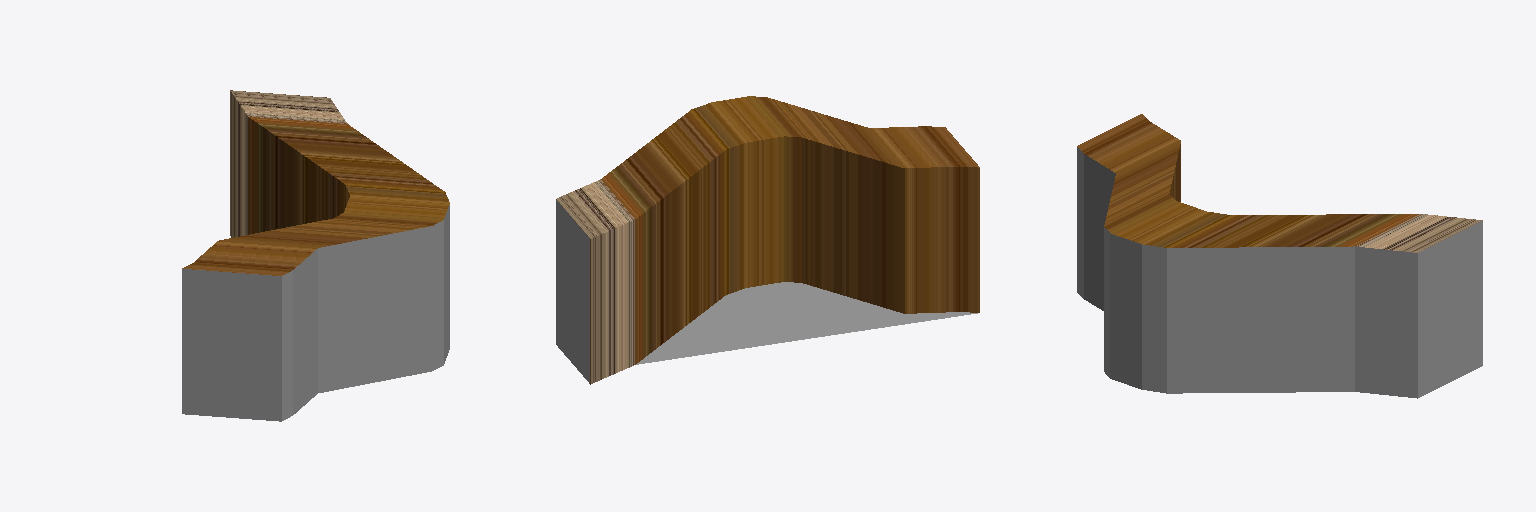
3 views of the same model, side by side, from view 1: azimuth 30°, elevation 25°; view 2: azimuth 150°, elevation 25°; view 3: azimuth 270°, elevation 25° (orthographic).
Visible parts, largest first — view 1: Plane.014_Plane.015; view 2: Plane.014_Plane.015; view 3: Plane.014_Plane.015.
Boxes of the visible parts, x1=… form: Plane.014_Plane.015: x1=182, y1=90, x2=449, y2=421; Plane.014_Plane.015: x1=556, y1=96, x2=979, y2=384; Plane.014_Plane.015: x1=1077, y1=114, x2=1482, y2=398.
Bounding box in the file's own units: 527 × 256 × 648.
Materials: 3 (2 with a texture image).